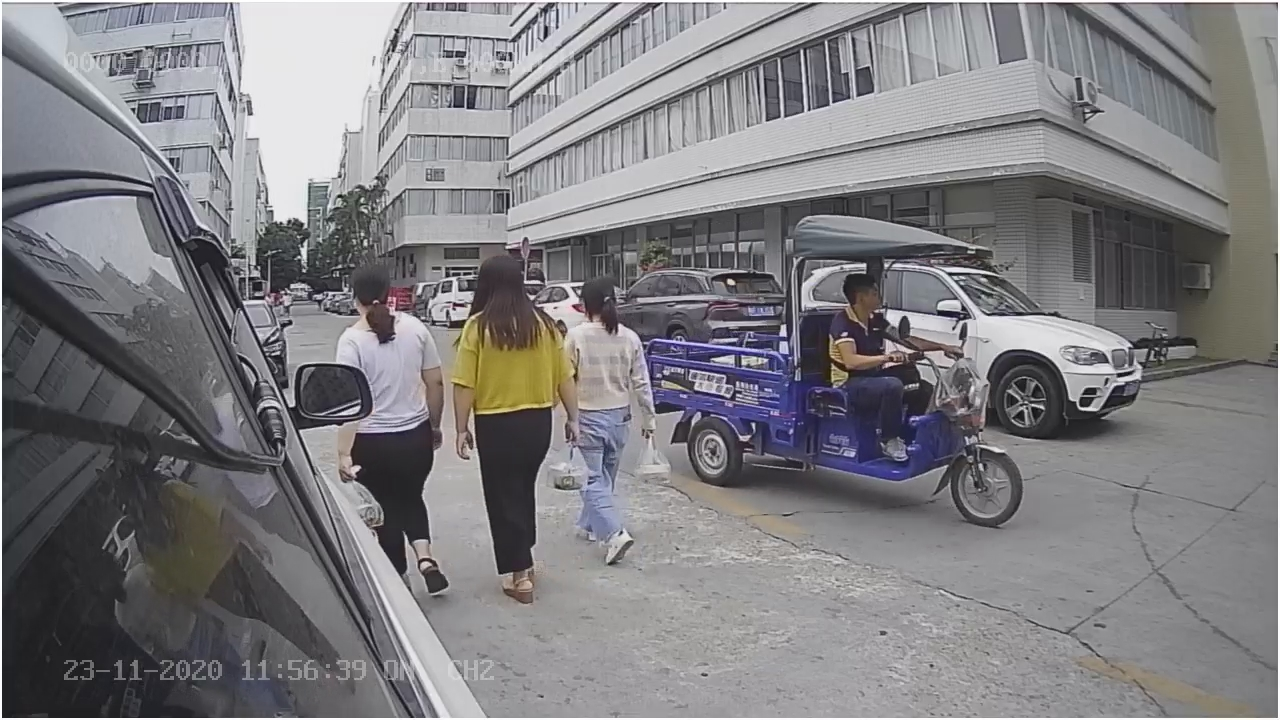person: (444, 252, 583, 609), (321, 260, 449, 604), (565, 273, 670, 567), (827, 273, 902, 378)
